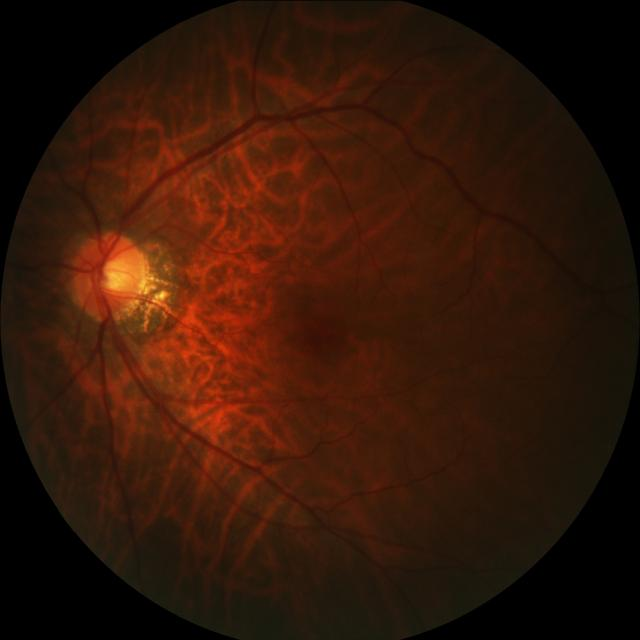OC: (94, 255, 134, 298)
OD: (70, 230, 150, 322)
